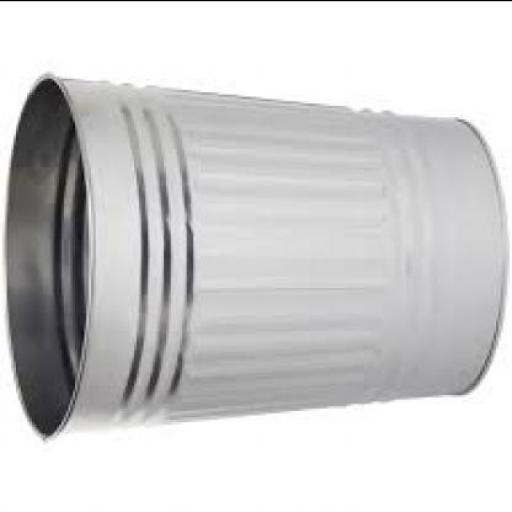metal: (2, 77, 503, 442)
